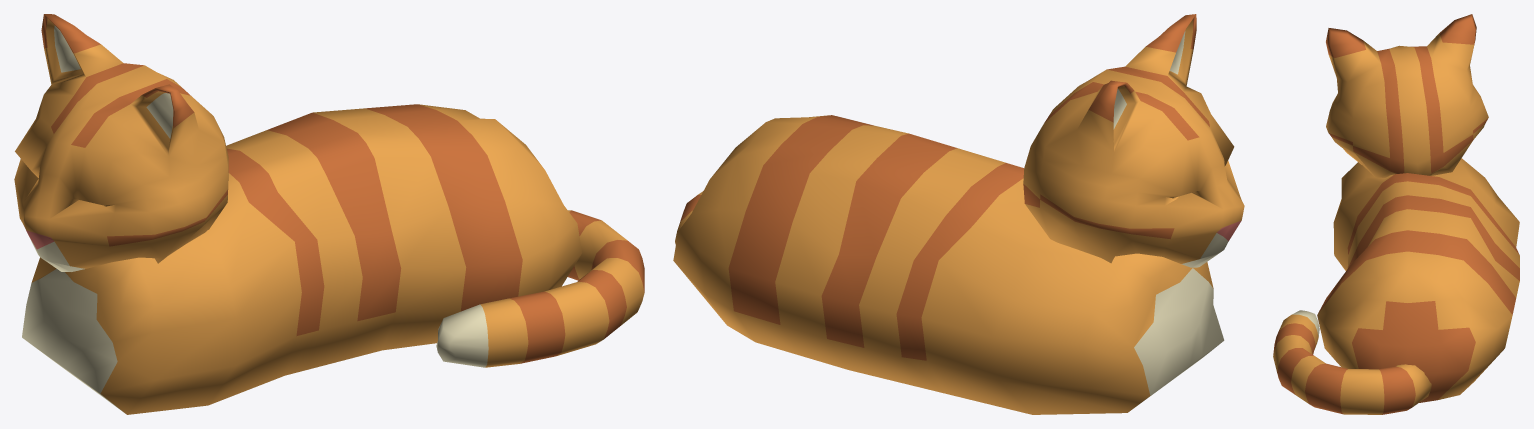
Rendered from GatoPanBimbo.fbx.
3 views of the same model, side by side, from view 1: azimuth 30°, elevation 25°; view 2: azimuth 150°, elevation 25°; view 3: azimuth 270°, elevation 25° (orthographic). The views are drawn at different scales.
Visible parts, largest first — view 1: Pan, Cabeza, Cola; view 2: Pan, Cabeza; view 3: Pan, Cabeza, Cola.
Boxes of the visible parts, x1,y1,x2,y2 form: Pan: (22, 104, 582, 414); Cabeza: (14, 14, 228, 271); Cola: (436, 210, 644, 367); Pan: (673, 115, 1224, 414); Cabeza: (1023, 14, 1244, 267); Pan: (1317, 158, 1519, 402); Cabeza: (1326, 14, 1488, 177); Cola: (1273, 310, 1431, 414).
Size of the model in its own units: 636 by 366 by 336.
